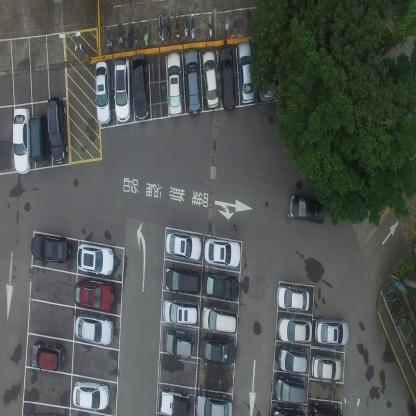car: (47, 97, 71, 165), (74, 277, 114, 311), (131, 51, 150, 121), (76, 243, 116, 275), (74, 314, 114, 345), (31, 233, 72, 263), (204, 236, 242, 268), (202, 271, 240, 303), (12, 107, 30, 174), (258, 41, 278, 101), (218, 46, 236, 112), (184, 48, 202, 114), (94, 60, 112, 126), (73, 379, 110, 411), (237, 41, 256, 103), (30, 340, 66, 372), (289, 193, 325, 225), (165, 230, 202, 261), (164, 266, 202, 296), (162, 297, 200, 327), (200, 336, 237, 366), (114, 56, 130, 124), (314, 316, 350, 346), (201, 305, 238, 334), (166, 52, 182, 117), (30, 114, 51, 163), (278, 316, 312, 346), (202, 49, 219, 108), (276, 285, 310, 314), (195, 391, 233, 416), (274, 375, 306, 404), (312, 352, 342, 382), (159, 385, 189, 415), (165, 328, 194, 357), (278, 348, 308, 375), (310, 400, 343, 415), (271, 404, 305, 415)
